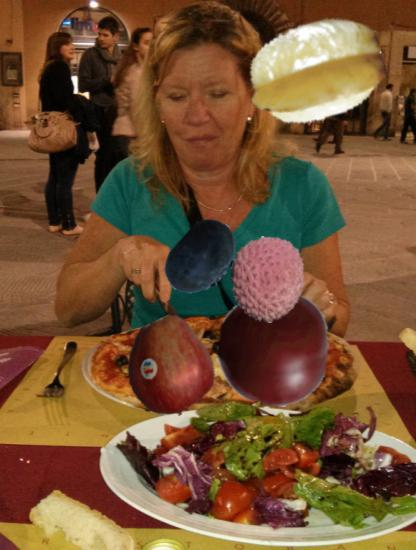Apple: (121, 320, 217, 416)
Blueberry: (161, 217, 245, 301)
Carambula: (246, 2, 384, 140)
Cherry: (216, 290, 331, 405)
Lychee: (224, 236, 312, 324)
